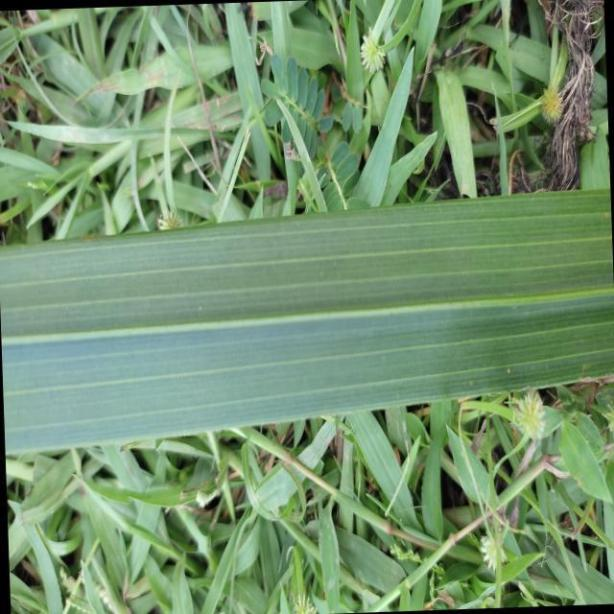Healthy: (0, 186, 614, 463)
